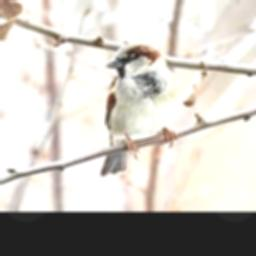Sparrow: (100, 42, 178, 175)
